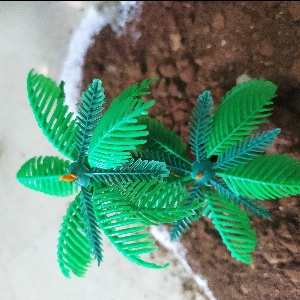plant: (6, 68, 182, 281), (155, 71, 299, 266)
